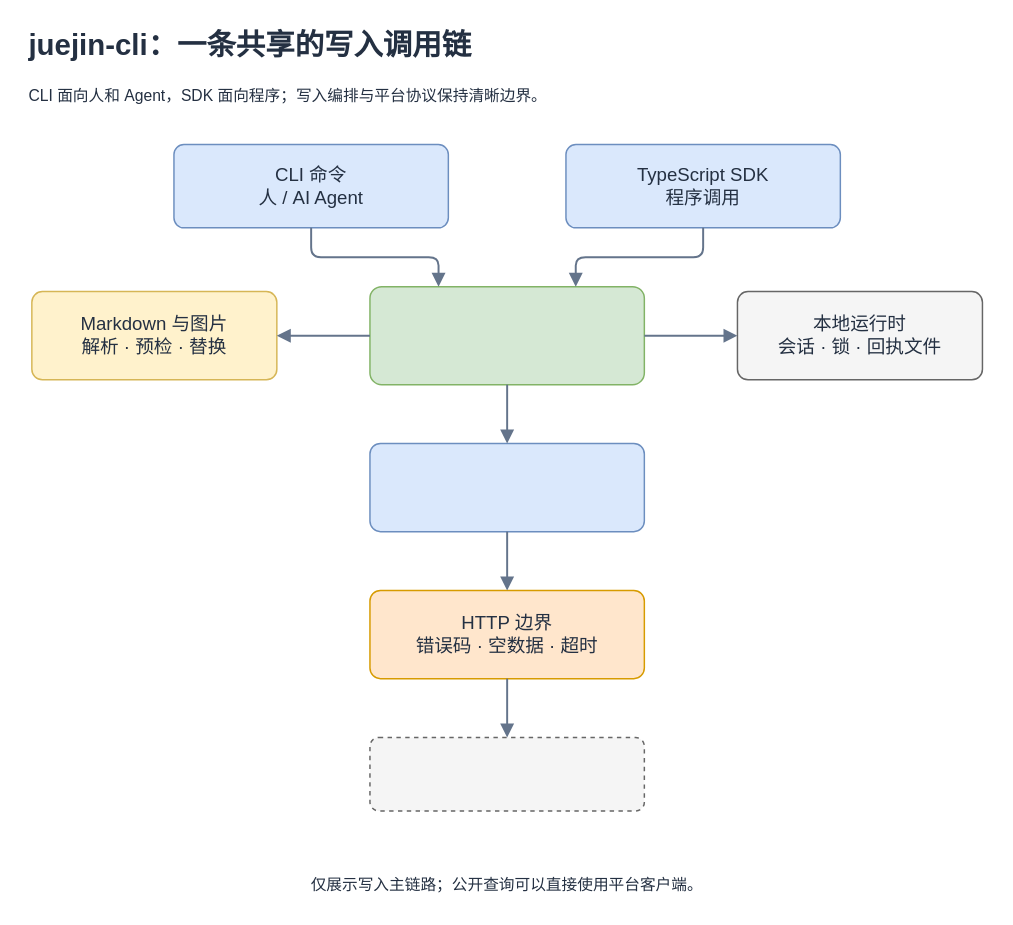
Some shapes in this 1013 by 925 pixel diagram are drawn without their labels. Here are the shapes that lost their labels. From the top down, the centre of each, then its label:
At [507,335]: "WritingService 锁 · 读取合并 · 操作回执".
At [507,487]: "平台请求与类型 JuejinClient / ImageUploader".
At [507,773]: "掘金平台".
